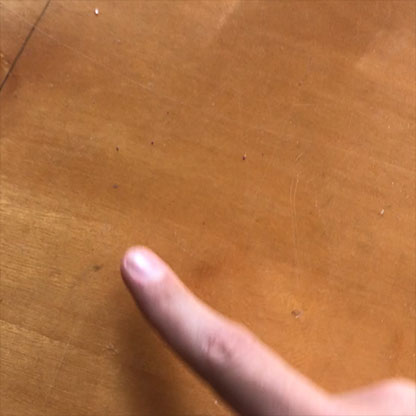fingertip: (108, 236, 180, 302)
